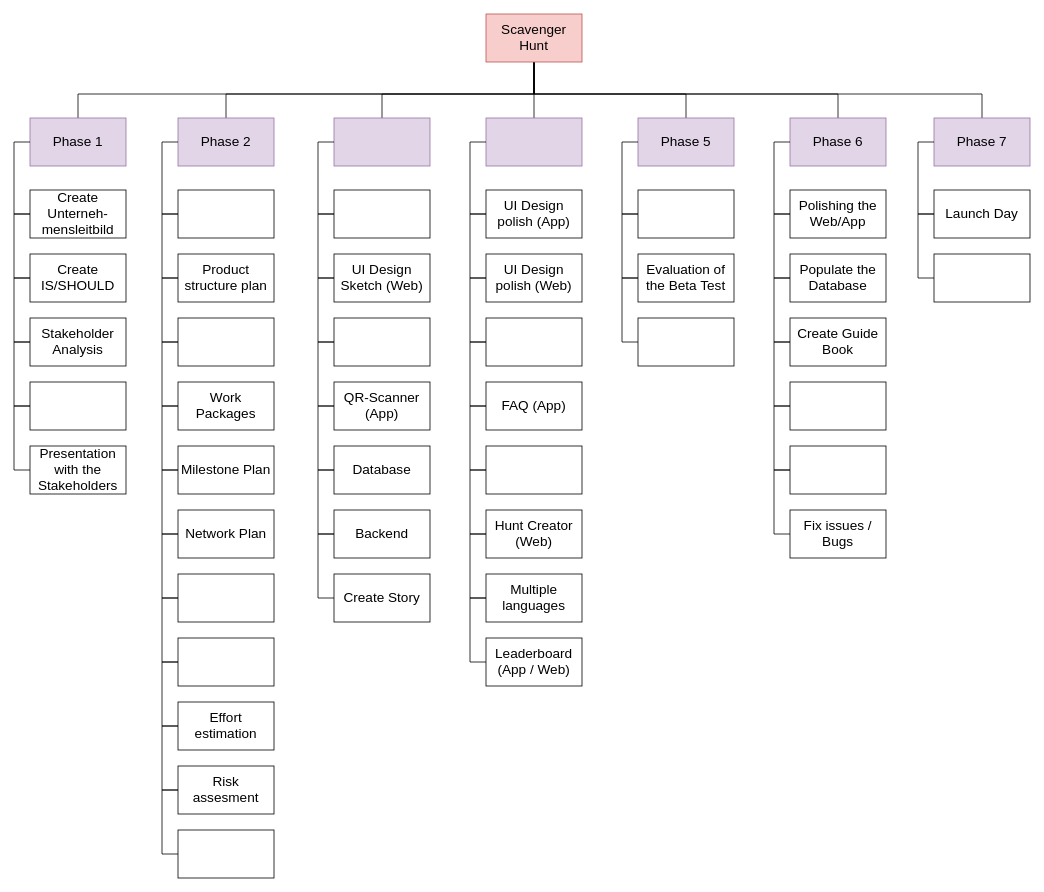
Image size: 1044x892. Some labels were removed from this diagram. Here are the shapes that lost their labels. From the top down, the centre of each, then its label:
At [381,141]: "Phase 3".
At [533,141]: "Phase 4".
At [225,213]: "Results Planning with Stakeholders".
At [381,213]: "UI Design Sketch (App)".
At [685,213]: "Beta-Test".
At [981,277]: "Evaluation of Launch Day and planning".
At [225,341]: "Project structure plan".
At [381,341]: "QR-Generator (Web)".
At [533,341]: "Scavenger Hunt Selector (App)".
At [685,341]: "Bug fixing (redo Beta-Test after)".
At [77,405]: "Create Presentation".
At [837,405]: "Soft launch for Stakeholders".
At [533,469]: "User Statistics (Web)".
At [837,469]: "Staff Training / Guide Book".
At [225,597]: "Workforce Schedule".
At [225,661]: "Internal Presentation for Dev. team".
At [225,853]: "Stakeholder Meeting".
